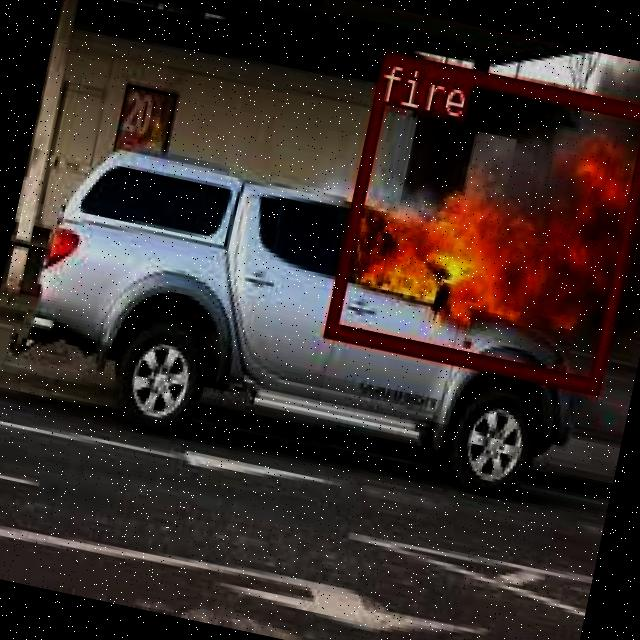fire: (323, 49, 640, 391)
